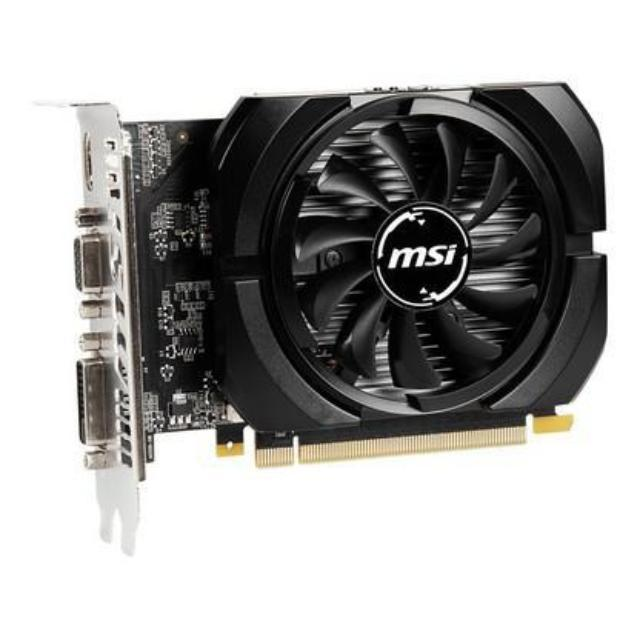GPU: (69, 70, 628, 475)
